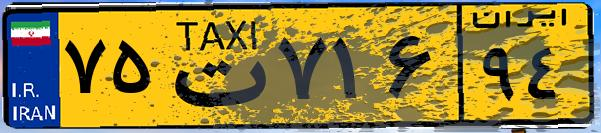1: (330, 28, 385, 110)
4: (525, 38, 570, 115)
5: (110, 28, 158, 98)
6: (385, 28, 445, 110)
7: (270, 28, 330, 110), (57, 26, 110, 100)
9: (475, 38, 525, 113)
ت: (158, 12, 270, 120)
